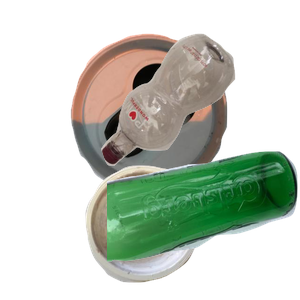glass: (107, 149, 300, 300)
metal: (68, 31, 288, 211)
plastic: (99, 31, 300, 189)
trash: (83, 163, 276, 300)
